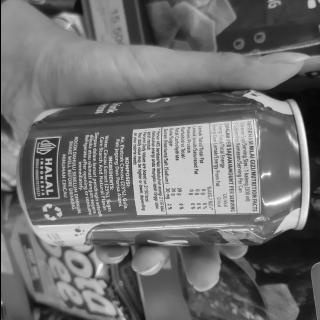alumunium_can: (13, 74, 320, 262)
